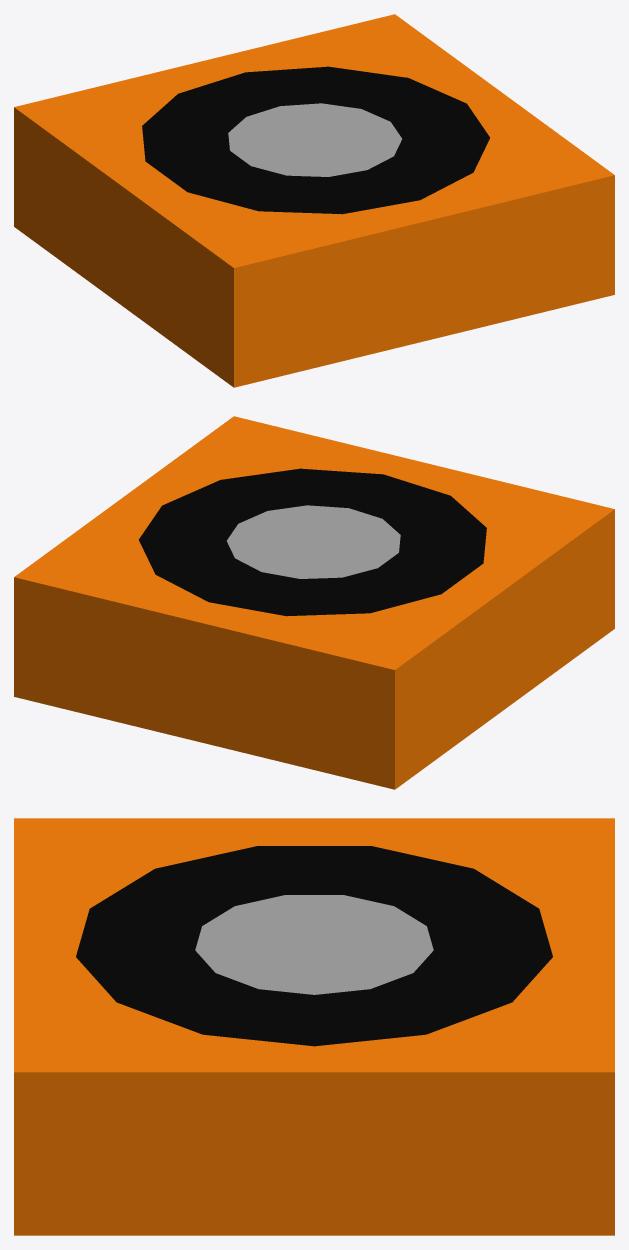
The model's file is agv.glb.
3 renders of one model, top to bottom at view 1: azimuth 30°, elevation 25°; view 2: azimuth 150°, elevation 25°; view 3: azimuth 270°, elevation 25°, orthographic. The views are drawn at different scales.
Parts seen in each view (by area): view 1: Obj_000003, Obj_000002, Obj_000001; view 2: Obj_000003, Obj_000002, Obj_000001; view 3: Obj_000003, Obj_000002, Obj_000001.
Part boxes in pixels (x1,y1,x2,y2): Obj_000003: (14,14,614,387); Obj_000002: (142,66,489,214); Obj_000001: (228,103,401,176); Obj_000003: (14,416,614,789); Obj_000002: (139,468,486,616); Obj_000001: (227,505,400,578); Obj_000003: (14,818,614,1235); Obj_000002: (76,846,552,1046); Obj_000001: (195,895,433,994).
Bounding box in the file's own units: 1 × 0.302 × 1.
